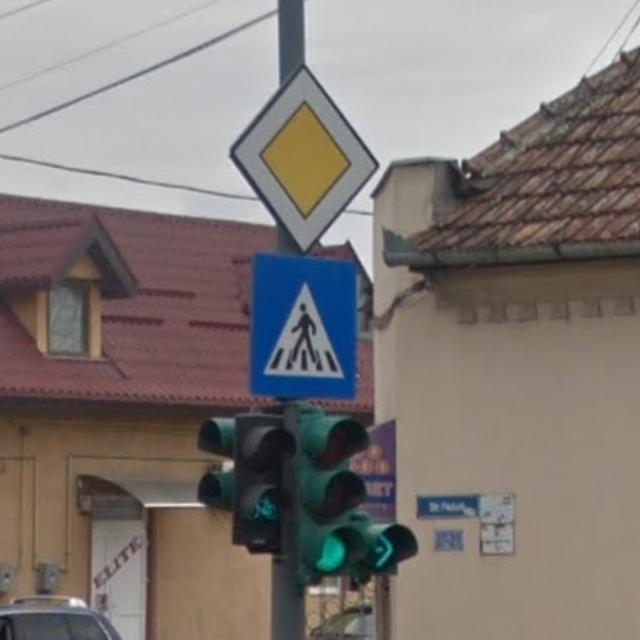info_crosswalk: (250, 254, 356, 398)
